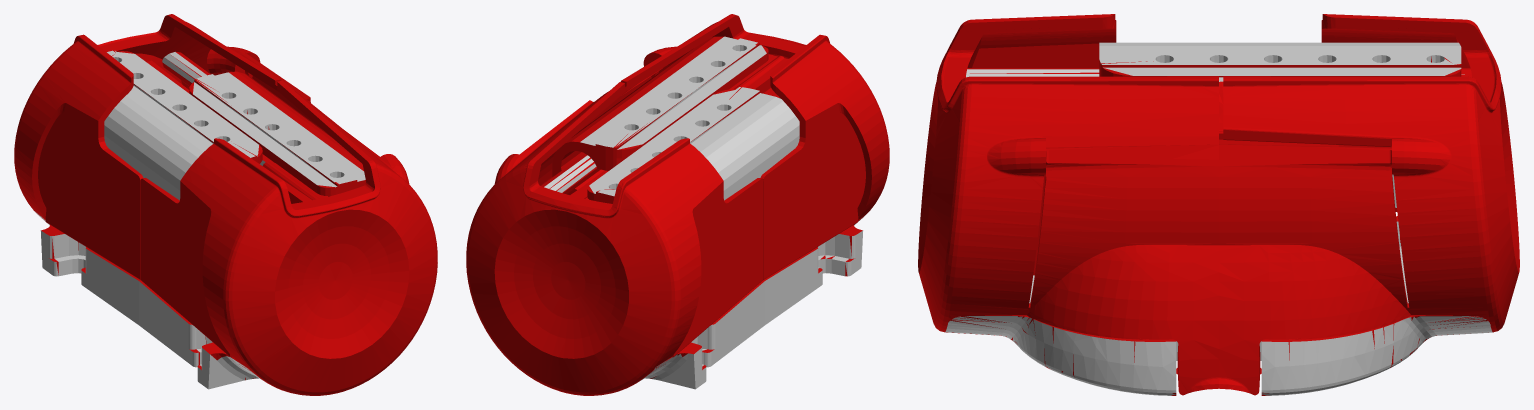
File: electric_gripper_base.DAE
The picture shows the model from 3 angles, left to right: view 1: azimuth 30°, elevation 25°; view 2: azimuth 150°, elevation 25°; view 3: azimuth 270°, elevation 25°; orthographic projection. The views are drawn at different scales.
Parts seen in each view (by area): view 1: electric_gripper_base; view 2: electric_gripper_base; view 3: electric_gripper_base.
Part boxes in pixels (bbox=[...]): electric_gripper_base: bbox=[14, 14, 437, 395]; electric_gripper_base: bbox=[466, 14, 889, 395]; electric_gripper_base: bbox=[918, 14, 1519, 395].
Size of the model in its own units: 0.0659 by 0.1055 by 0.0534.
